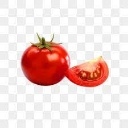tomato: (20, 42, 71, 85), (67, 56, 111, 85)
